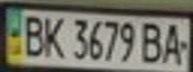3: (66, 16, 90, 61)
6: (84, 17, 106, 62)
7: (103, 17, 121, 62)
9: (118, 18, 139, 63)
A: (160, 20, 190, 65)
B: (18, 11, 48, 57), (139, 19, 166, 64)
K: (39, 14, 66, 58)
